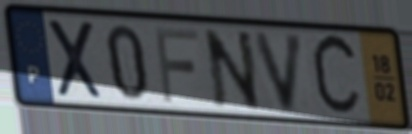0: (103, 22, 152, 103)
C: (308, 30, 364, 122)
F: (152, 24, 201, 106)
N: (200, 27, 263, 113)
V: (251, 30, 308, 116)
X: (43, 15, 107, 103)
